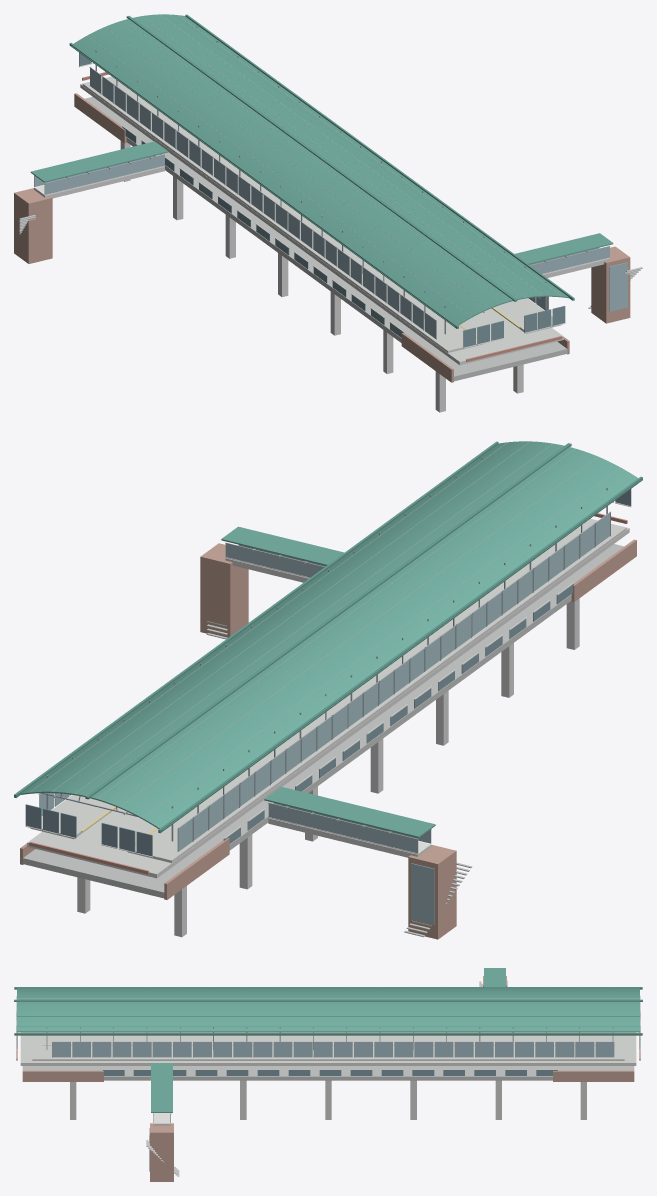
The picture shows the model from 3 angles, top to bottom: view 1: azimuth 30°, elevation 25°; view 2: azimuth 150°, elevation 25°; view 3: azimuth 270°, elevation 25°; orthographic projection. The views are drawn at different scales.
Parts seen in each view (by area): view 1: MRT6 station 6 concept geometry; view 2: MRT6 station 6 concept geometry; view 3: MRT6 station 6 concept geometry.
Part boxes in pixels (bbox=[...]): MRT6 station 6 concept geometry: bbox=[14, 14, 642, 412]; MRT6 station 6 concept geometry: bbox=[14, 441, 642, 939]; MRT6 station 6 concept geometry: bbox=[14, 968, 642, 1181].
Bounding box in the file's own units: 101 × 29.49 × 162.
